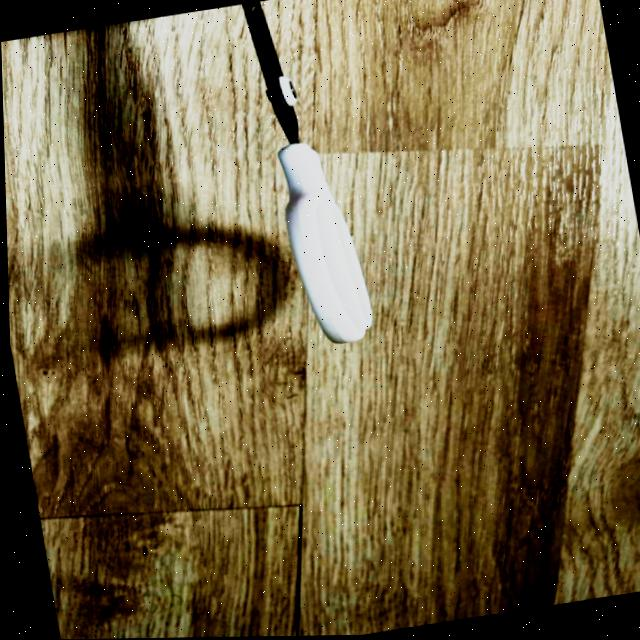Scissors: (243, 3, 370, 344)
